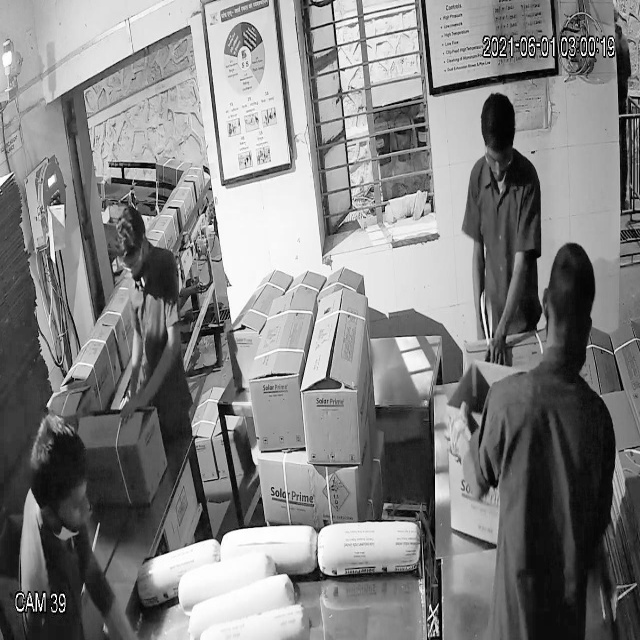Gafas: (118, 244, 152, 282)
